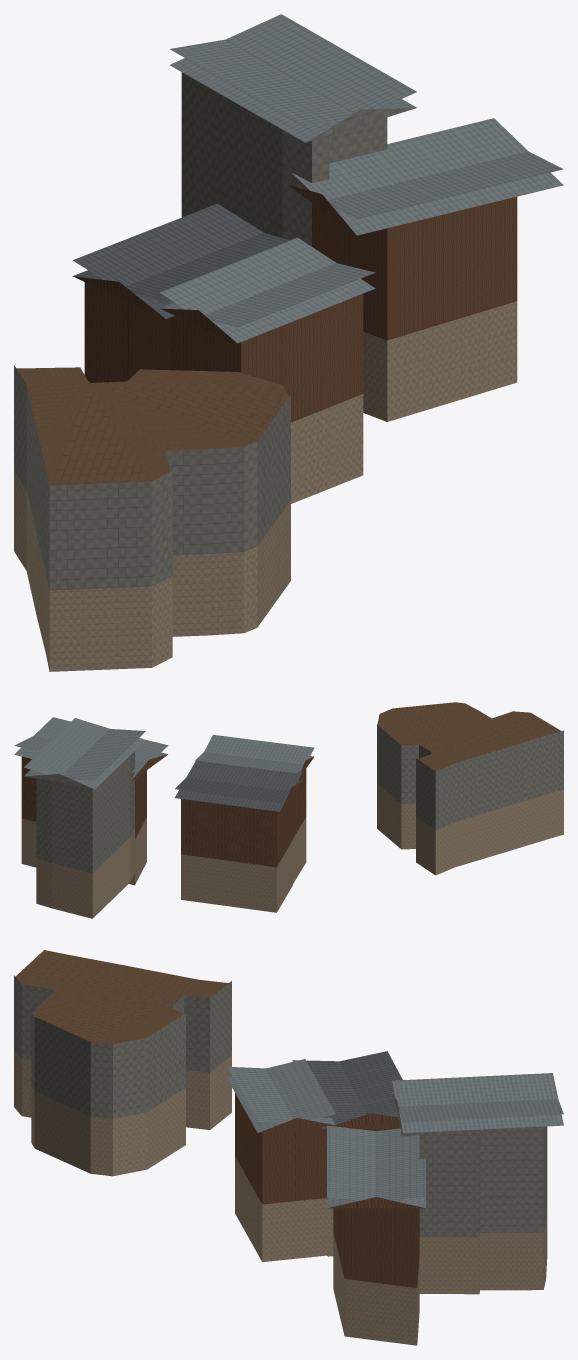
Rendered from bld_c5_9_481.gltf.
The picture shows the model from 3 angles, top to bottom: view 1: azimuth 30°, elevation 25°; view 2: azimuth 150°, elevation 25°; view 3: azimuth 270°, elevation 25°; orthographic projection. The views are drawn at different scales.
Visible parts, largest first — view 1: bld_c5_9_481; view 2: bld_c5_9_481; view 3: bld_c5_9_481.
Boxes of the visible parts, x1,y1,x2,y2 form: bld_c5_9_481: (14, 14, 563, 671); bld_c5_9_481: (14, 702, 563, 918); bld_c5_9_481: (14, 950, 563, 1345).
Size of the model in its own units: 46.82 by 17.2 by 44.13.
Materials: 8 (8 with a texture image).
